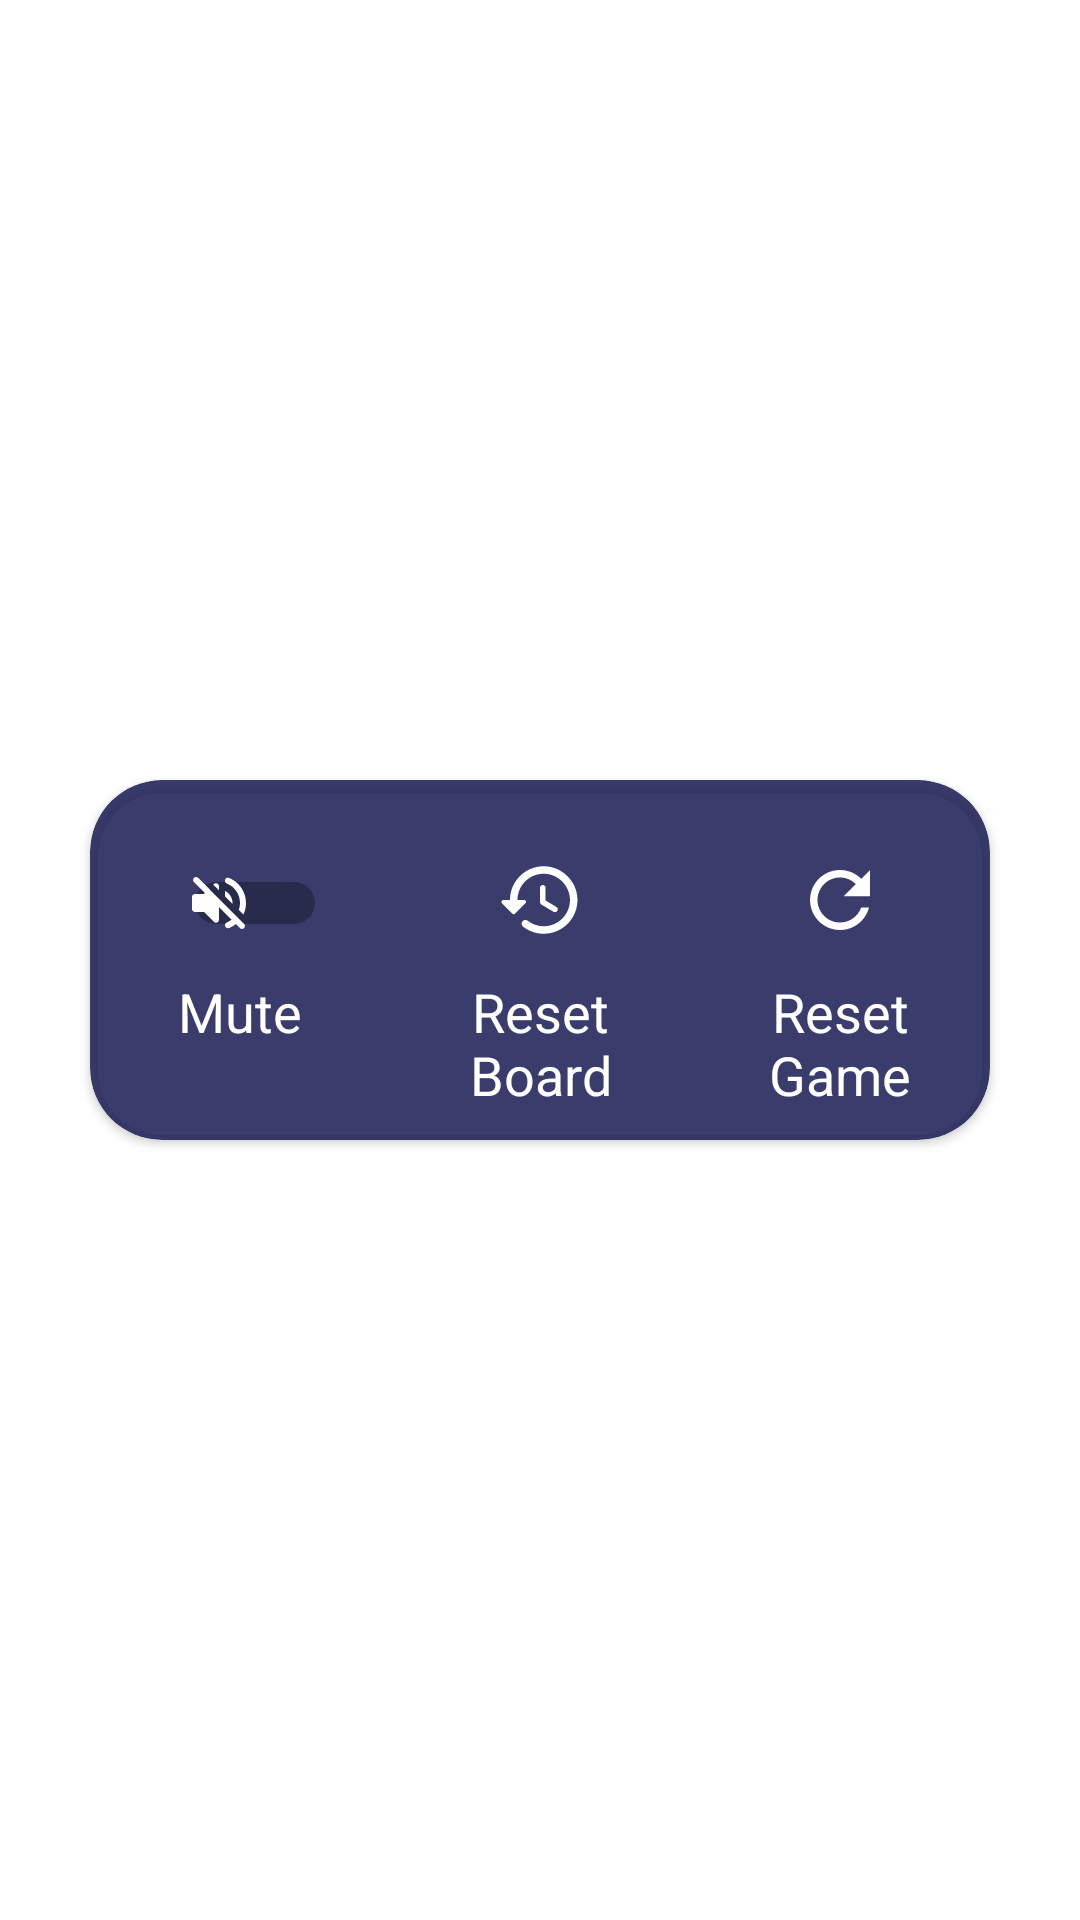

Named icons in this screenshot (1080×1920) and their centers, (x=x, y=y):
refresh: (x=840, y=900)
